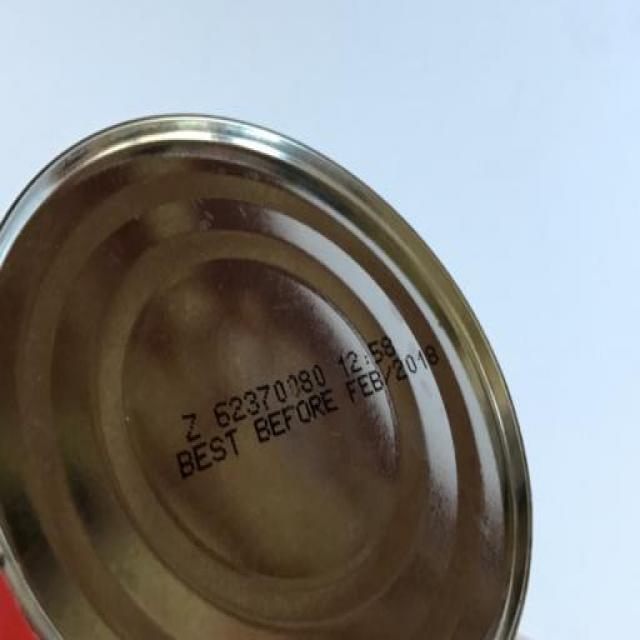metel: (1, 112, 543, 640)
